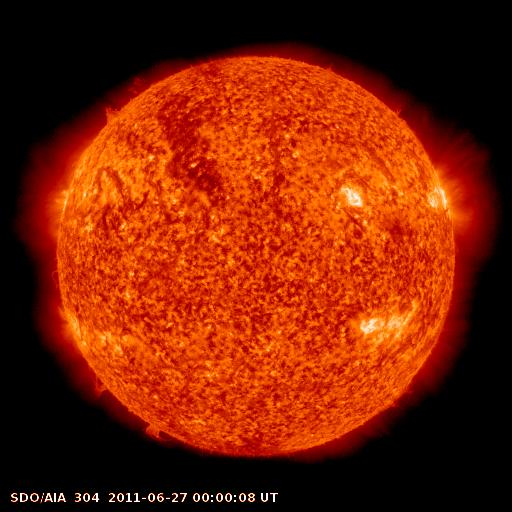prominence: (97, 71, 155, 128), (135, 415, 180, 450), (93, 369, 113, 400)
